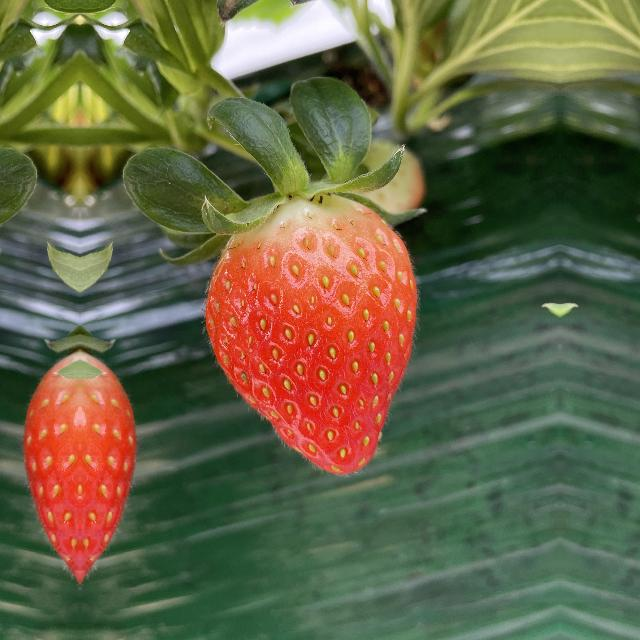Health_100: (200, 191, 418, 475)
